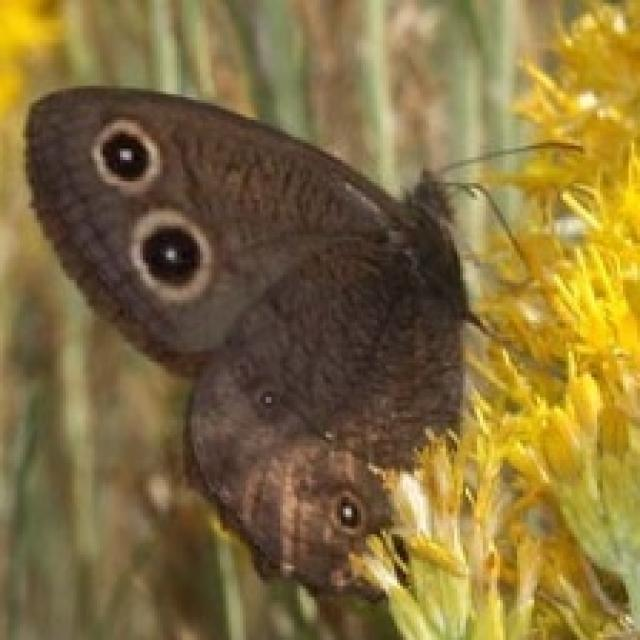butterfly: (20, 80, 586, 600)
